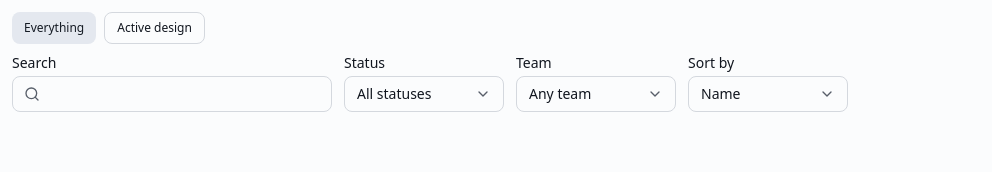
Test: SearchFilterToolbar › saved views › applies a view as a whole and presses it
Click the button "Active design" at [155, 28], box [104,12,205,44]
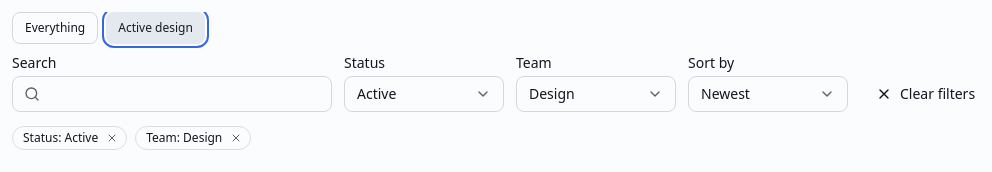
Expected: the list items read "Status: Active", "Team: Design", in this order, [12,124,127,150]; [135,124,251,150]
